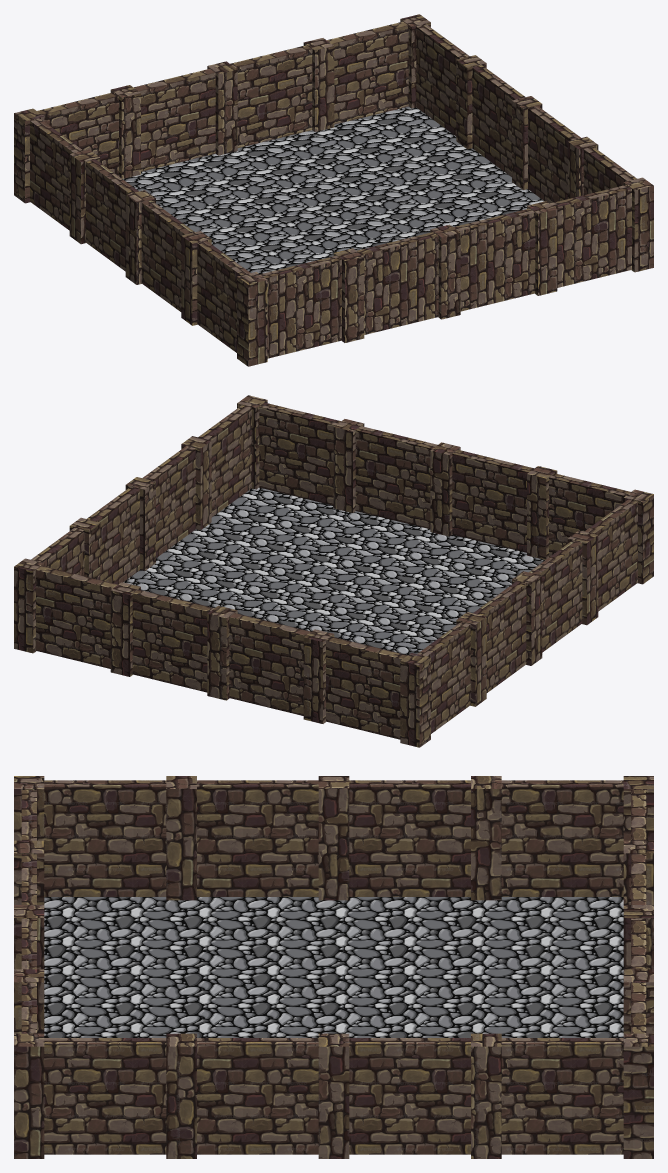
The picture shows the model from 3 angles, top to bottom: view 1: azimuth 30°, elevation 25°; view 2: azimuth 150°, elevation 25°; view 3: azimuth 270°, elevation 25°; orthographic projection. The views are drawn at different scales.
Visible parts, largest first — view 1: Cube_2_3, Cube_2_3_001; view 2: Cube_2_3, Cube_2_3_001; view 3: Cube_2_3, Cube_2_3_001.
Part boxes in pixels (<box>): Cube_2_3: <box>14,14,653,366</box>; Cube_2_3_001: <box>123,106,544,273</box>; Cube_2_3: <box>14,395,653,747</box>; Cube_2_3_001: <box>123,487,544,654</box>; Cube_2_3: <box>14,776,653,1158</box>; Cube_2_3_001: <box>44,897,623,1037</box>.
Bounding box in the file's own units: 42 × 8.13 × 42.
2 materials, 2 textured.
